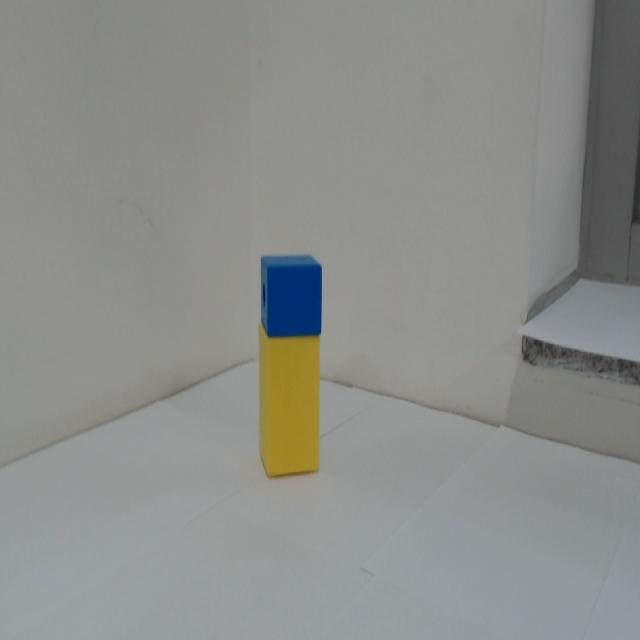cube: (259, 253, 324, 340)
